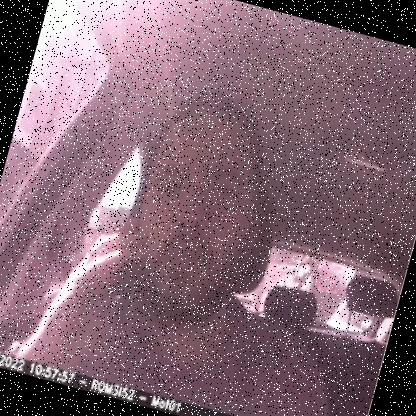phone: (90, 200, 166, 340)
